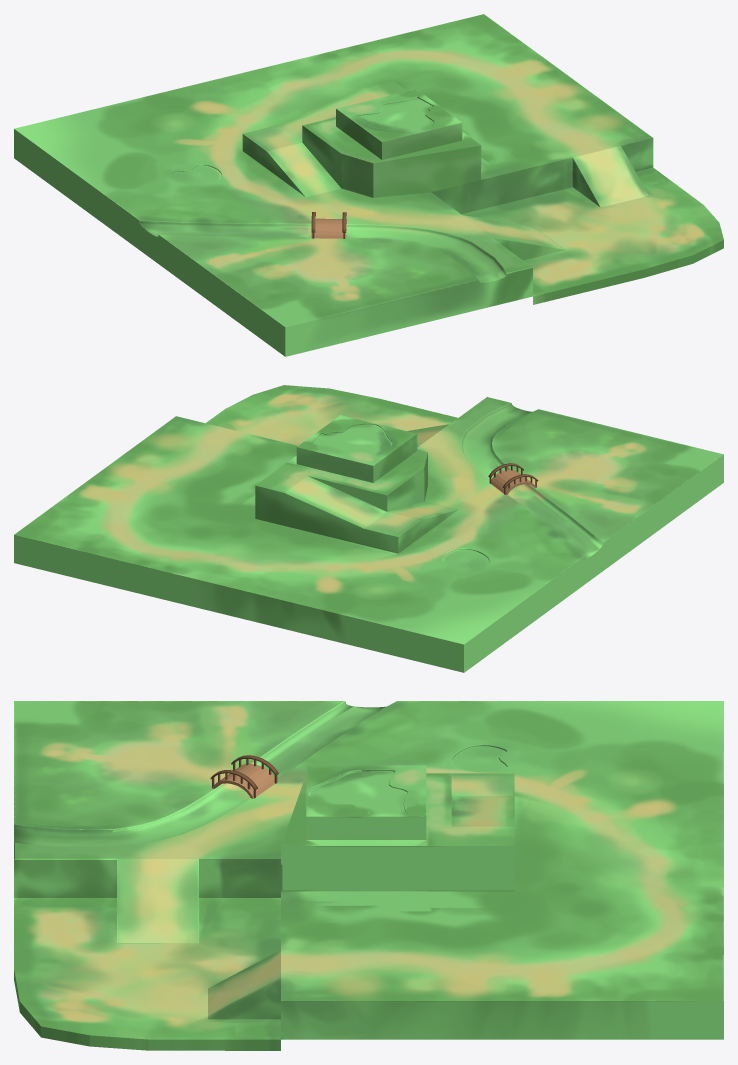
File: updated_terrain.fbx
3 renders of one model, top to bottom at view 1: azimuth 30°, elevation 25°; view 2: azimuth 150°, elevation 25°; view 3: azimuth 270°, elevation 25°, orthographic. The views are drawn at different scales.
Visible parts, largest first — view 1: ground, Bridge; view 2: ground, Bridge; view 3: ground, Bridge.
Boxes of the visible parts, box(x1,y1,x2,y2) form: ground: box(14, 14, 723, 356); Bridge: box(311, 212, 346, 238); ground: box(14, 385, 723, 672); Bridge: box(488, 463, 538, 494); ground: box(14, 701, 723, 1050); Bridge: box(210, 755, 278, 798).
Bounding box in the file's own units: 7176 × 1321 × 7176.
Materials: 2 (2 with a texture image).
